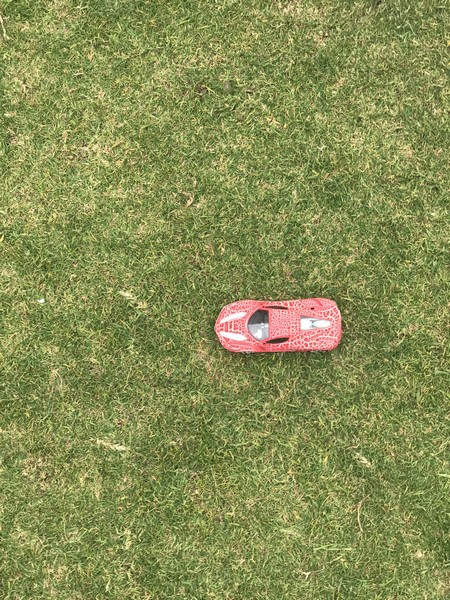RC: (213, 299, 343, 354)
